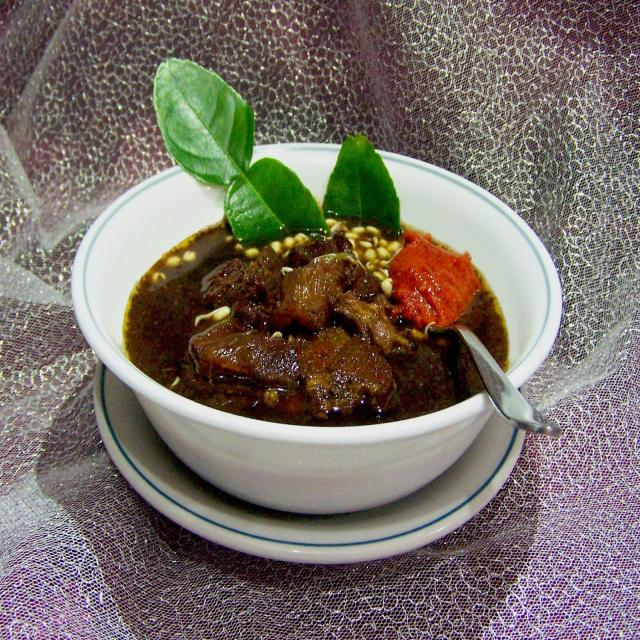Rawon: (136, 205, 506, 403)
